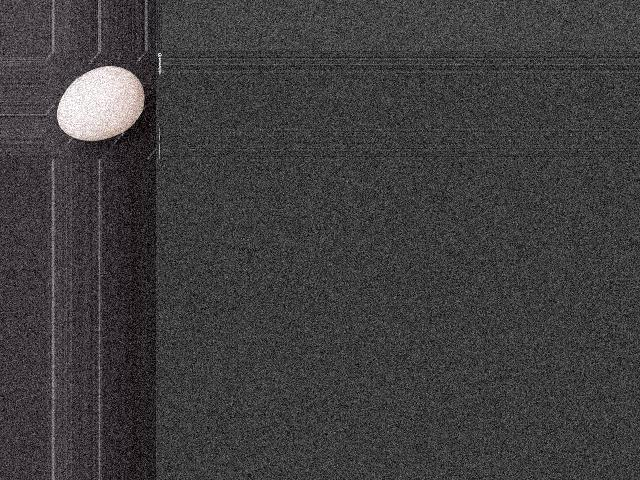egg: (57, 66, 144, 141)
